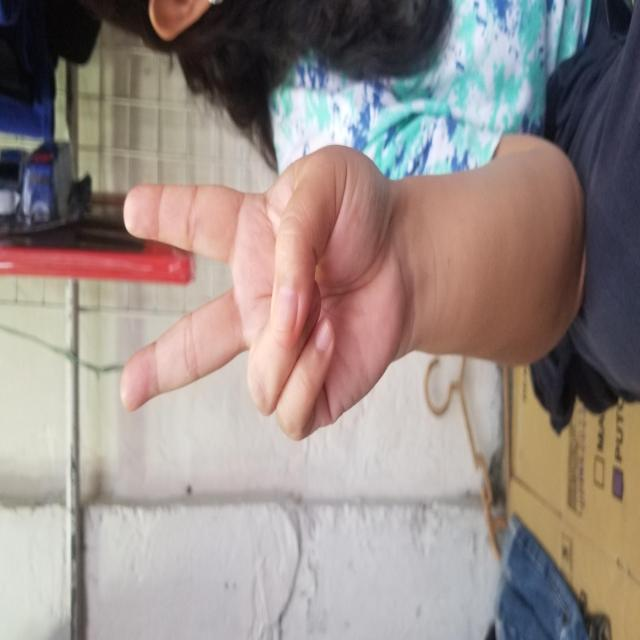V: (202, 117, 498, 409)
